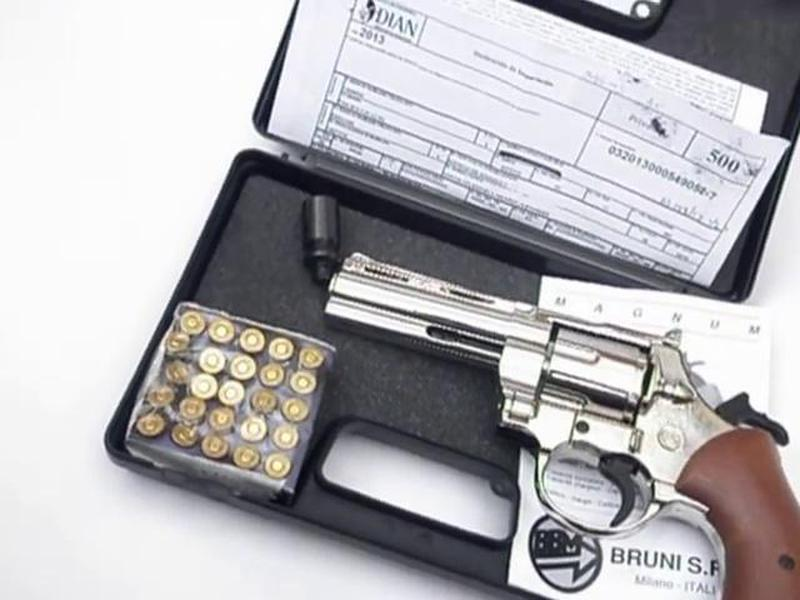Revolver: (322, 234, 800, 562)
